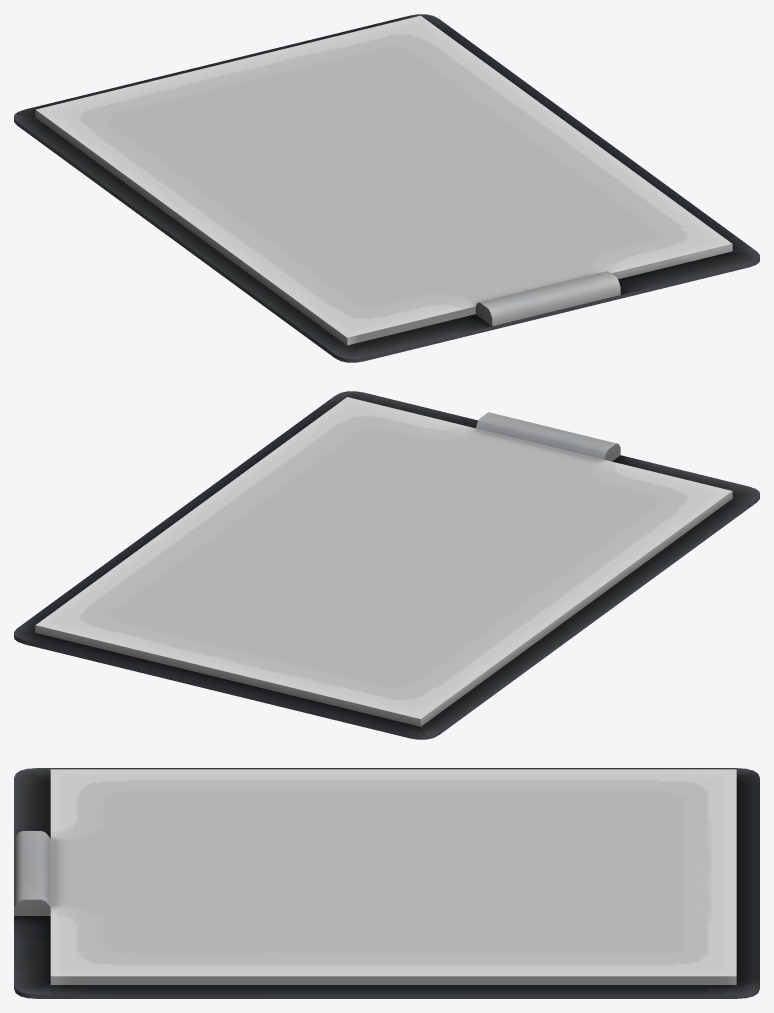
Rendered from OfficeDeskSet02__2.fbx.
The picture shows the model from 3 angles, top to bottom: view 1: azimuth 30°, elevation 25°; view 2: azimuth 150°, elevation 25°; view 3: azimuth 270°, elevation 25°; orthographic projection. The views are drawn at different scales.
Visible parts, largest first — view 1: OfficeDeskSet02; view 2: OfficeDeskSet02; view 3: OfficeDeskSet02.
Boxes of the visible parts, bbox=[...] form: OfficeDeskSet02: bbox=[14, 14, 759, 362]; OfficeDeskSet02: bbox=[14, 391, 759, 739]; OfficeDeskSet02: bbox=[14, 768, 759, 998].
Bounding box in the file's own units: 0.2767 × 0.0116 × 0.385.
1 material, 1 textured.
